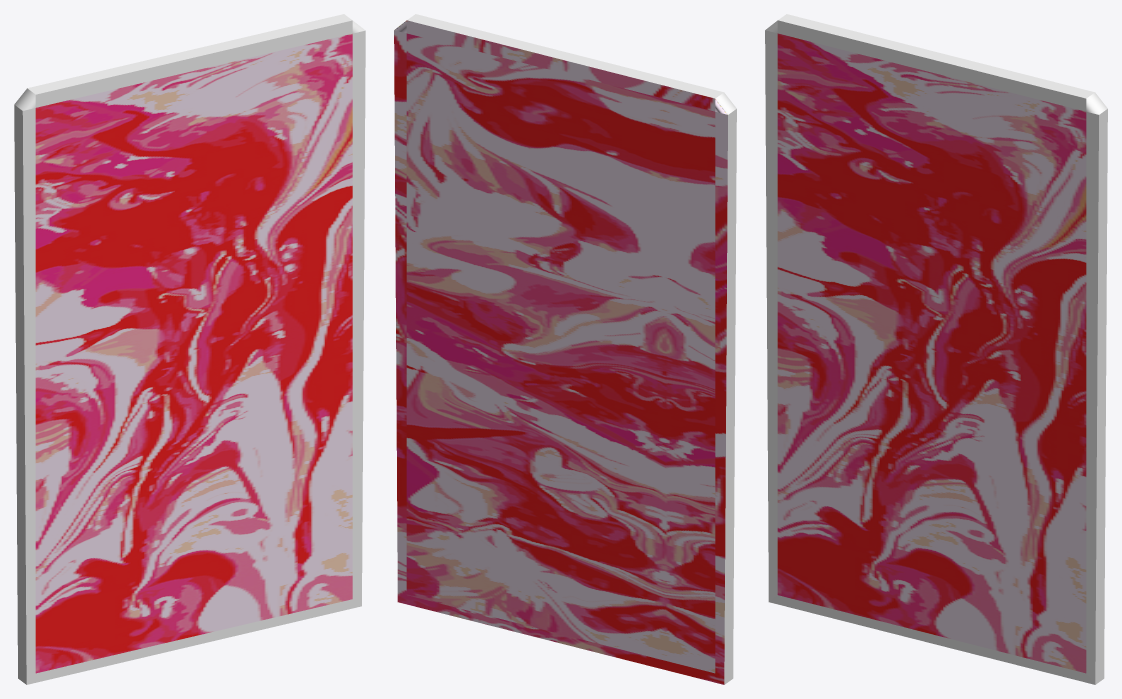
Rendered from k_tablo.obj.
3 renders of one model, left to right at view 1: azimuth 30°, elevation 25°; view 2: azimuth 150°, elevation 25°; view 3: azimuth 330°, elevation 25°, orthographic.
Parts seen in each view (by area): view 1: Plane.018_tablo_red, Plane.018_m_white; view 2: Plane.018_tablo_red, Plane.018_m_white; view 3: Plane.018_tablo_red, Plane.018_m_white.
Boxes of the visible parts, left/top/right/bottom form: Plane.018_tablo_red: left=35, top=33, right=352, bottom=673; Plane.018_m_white: left=14, top=14, right=365, bottom=684; Plane.018_tablo_red: left=394, top=20, right=727, bottom=684; Plane.018_m_white: left=407, top=14, right=736, bottom=684; Plane.018_tablo_red: left=777, top=33, right=1086, bottom=673; Plane.018_m_white: left=765, top=14, right=1107, bottom=684.
Bounding box in the file's own units: 10.25 × 16.96 × 0.6305.
